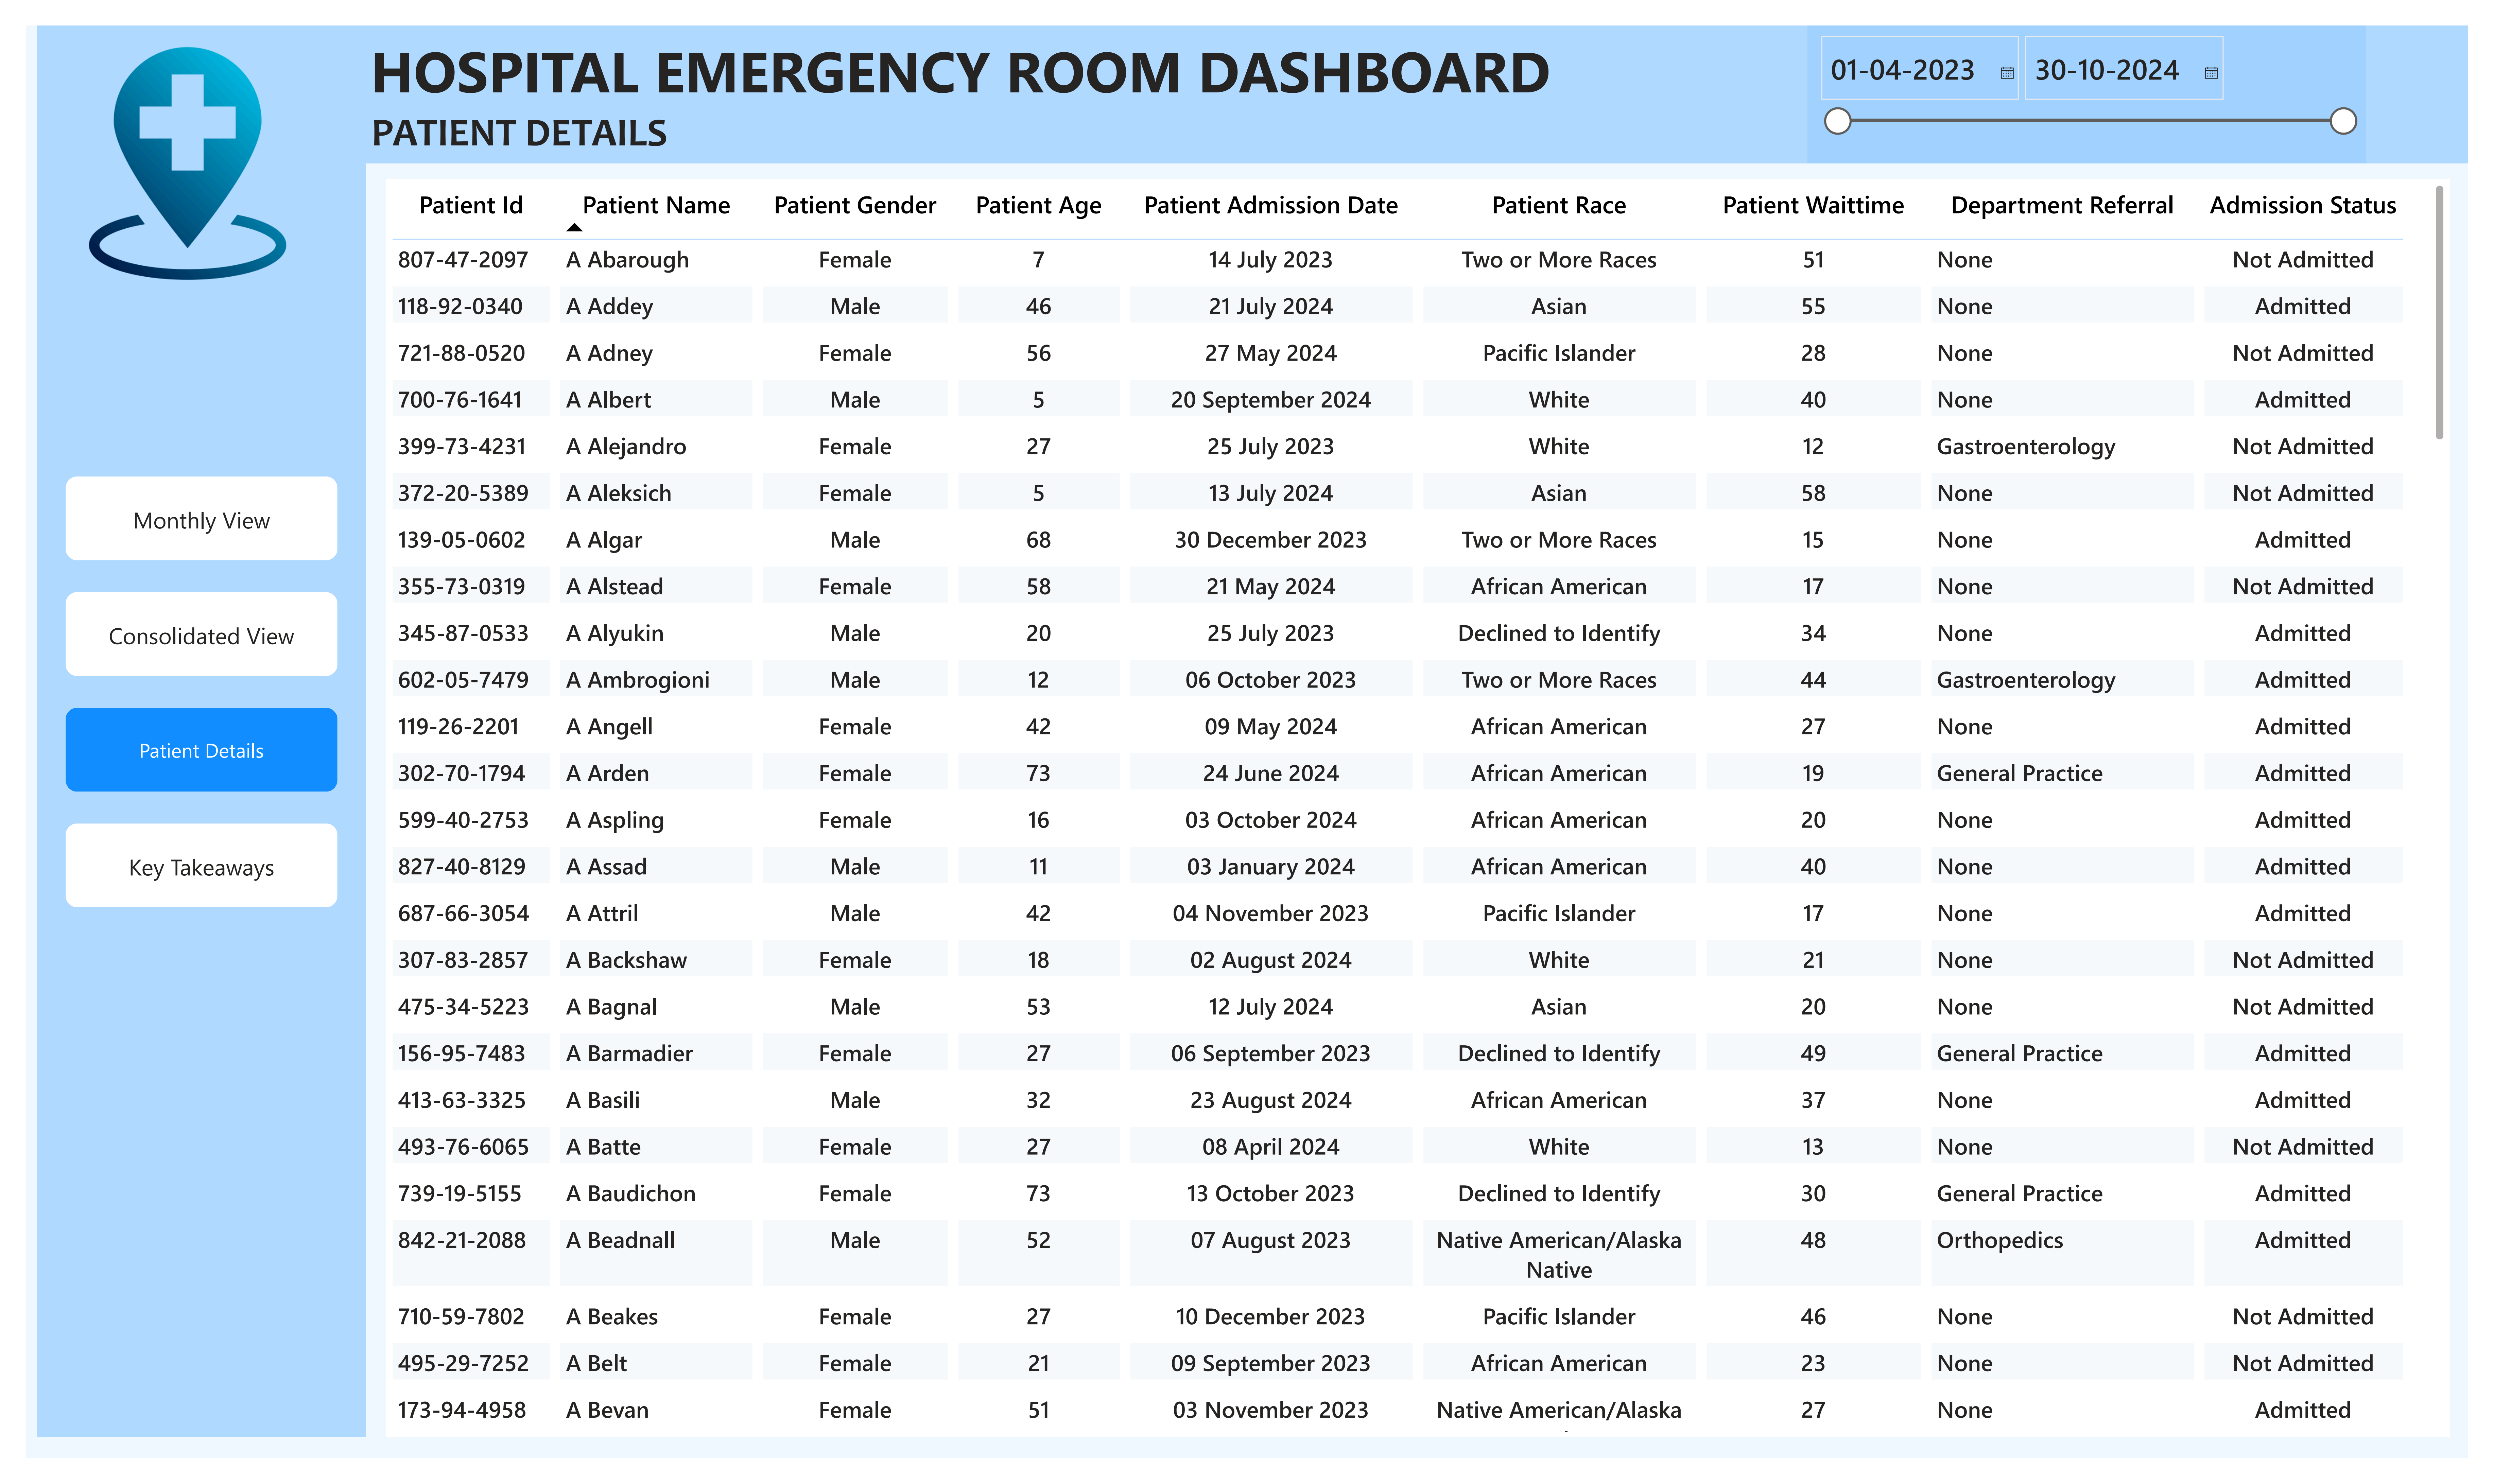

What the dashboard file says about the page in this screenshot:
{"tool":"powerbi","page":{"name":"Patient Details","canvas":[2300,1350],"ordinal":2},"visuals":[{"type":"shape","box":[10,0,310,1330],"z":0},{"type":"shape","box":[320,0,2080,130],"z":1000},{"type":"textbox","box":[319.1,0,1165.9,93.3],"z":2000},{"type":"textbox","box":[320,72,320,58],"z":3000},{"type":"slicer","fields":{"Values":["Date.Date"]},"box":[1678,0,526,130],"z":4000},{"type":"image","box":[42,20,220,220],"z":5000},{"type":"tableEx","fields":{"Values":["Hospital ER_Data.Patient Id","Hospital ER_Data.Patient Full Name","Hospital ER_Data.Patient Gender","Sum(Hospital ER_Data.Patient Age)","Hospital ER_Data.Patient Admission Date.Variation.Date Hierarchy.Year","Hospital ER_Data.Patient Race","Sum(Hospital ER_Data.Patient Waittime)","Hospital ER_Data.Department Referral","Hospital ER_Data.Admission Status"]},"box":[338.7,144.8,1944,1185.5],"z":6000},{"type":"pageNavigator","box":[36.8,424.6,256,408],"z":7000}]}

Visuals, with their boxes on the page's 2300x1350 design canvas (x1, y1, x2, y2). These are canvas units, not pixel positions in the 2494x1484 screenshot, which may show the page scaled, cropped or inside an application window:
shape: [left=10, top=0, right=320, bottom=1330]
shape: [left=320, top=0, right=2400, bottom=130]
textbox: [left=319, top=0, right=1485, bottom=93]
textbox: [left=320, top=72, right=640, bottom=130]
slicer - Date.Date: [left=1678, top=0, right=2204, bottom=130]
image: [left=42, top=20, right=262, bottom=240]
tableEx - Hospital ER_Data.Patient Id x Hospital ER_Data.Patient Full Name: [left=339, top=145, right=2283, bottom=1330]
pageNavigator: [left=37, top=425, right=293, bottom=833]
